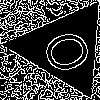O: (39, 23, 100, 77)
